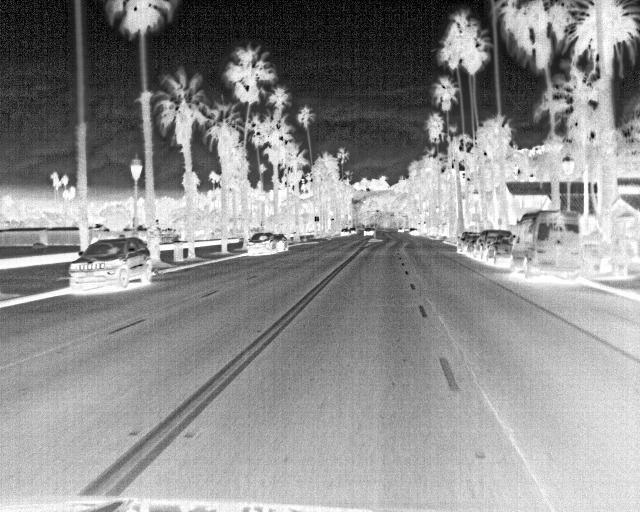car: (505, 208, 581, 280), (67, 238, 157, 293), (472, 228, 514, 259), (241, 231, 283, 256), (483, 233, 512, 266), (456, 233, 479, 254), (273, 233, 289, 252), (361, 226, 377, 239), (338, 226, 351, 238), (348, 227, 358, 235)
